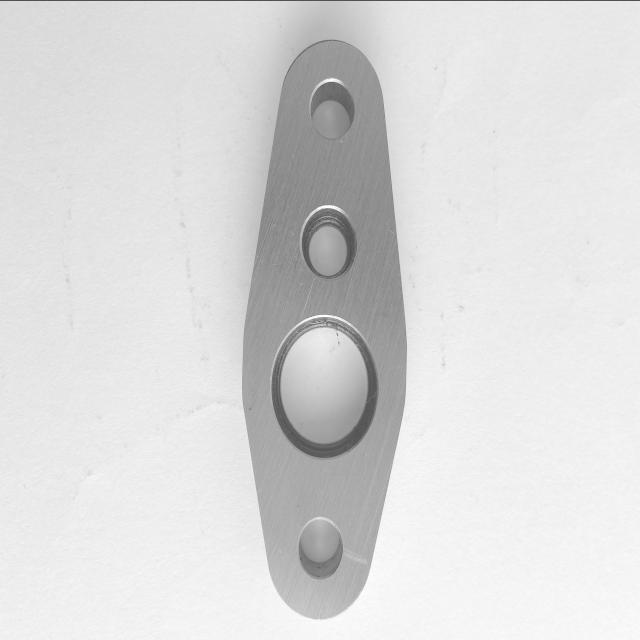chap: (364, 450, 368, 458)
lines: (300, 276, 315, 318), (342, 544, 367, 564)
